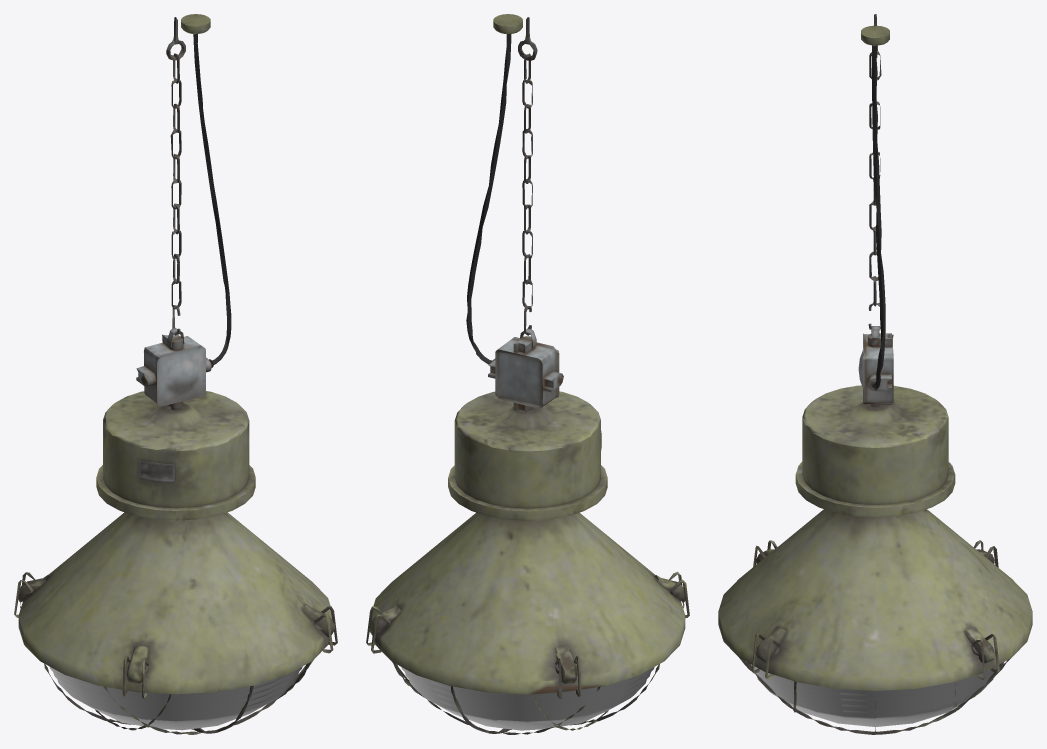
Rendered from lamp_hanging.glb.
The picture shows the model from 3 angles, left to right: view 1: azimuth 30°, elevation 25°; view 2: azimuth 150°, elevation 25°; view 3: azimuth 270°, elevation 25°; orthographic projection.
Visible parts, largest first — view 1: mesh; view 2: mesh; view 3: mesh.
Part boxes in pixels (x1,y1,x2,y2): mesh: [14, 14, 337, 734]; mesh: [366, 14, 689, 734]; mesh: [718, 14, 1032, 734].
Size of the model in its own units: 0.55 by 1.36 by 0.55.
1 material, 1 textured.
